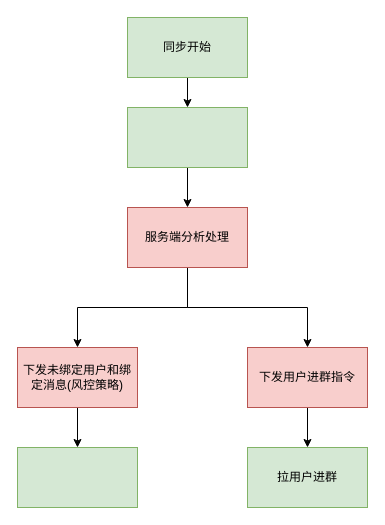
The diagram is 385 pixels wide and 525 high, and some of its shapes have lost their labels. The box of each missing label's shape, as (x1, y1, x2, y2) in pixels:
向用户发送绑定消息: (16, 446, 138, 508)
收集用户列表和群信息: (126, 106, 248, 168)
